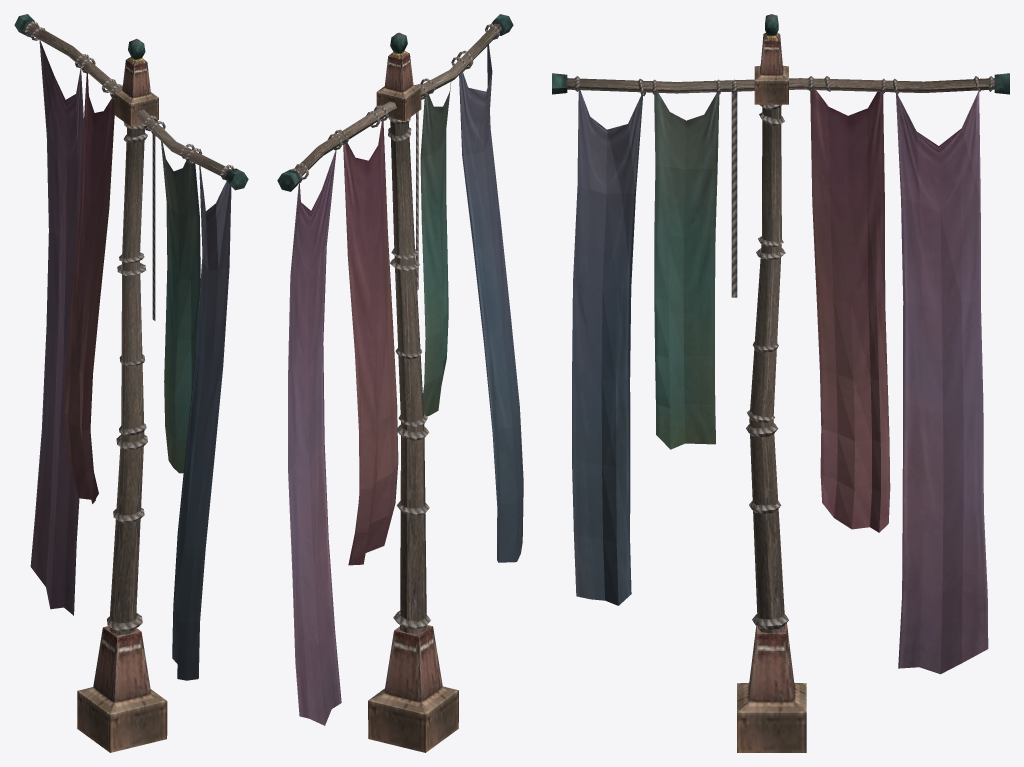
Rendered from bg_anh_mirrorv_dc09_sm_ysi.FBX.
3 renders of one model, left to right at view 1: azimuth 30°, elevation 25°; view 2: azimuth 150°, elevation 25°; view 3: azimuth 270°, elevation 25°, orthographic. The views are drawn at different scales.
Visible parts, largest first — view 1: bg_anh_mirrorv_dc09_sm_ysi; view 2: bg_anh_mirrorv_dc09_sm_ysi; view 3: bg_anh_mirrorv_dc09_sm_ysi.
Part boxes in pixels (<box>): bg_anh_mirrorv_dc09_sm_ysi: <box>14,14,248,752</box>; bg_anh_mirrorv_dc09_sm_ysi: <box>277,14,523,752</box>; bg_anh_mirrorv_dc09_sm_ysi: <box>552,14,1009,752</box>.
Size of the model in its own units: 81.55 by 893 by 506.
